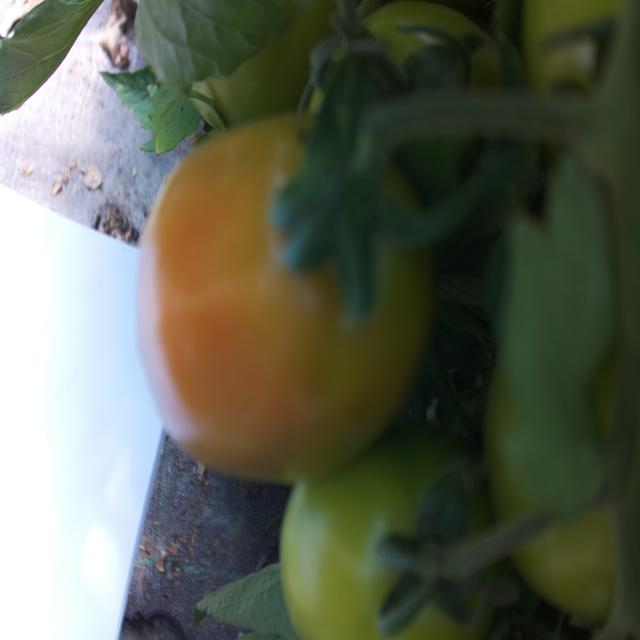yesil: (109, 91, 473, 480)
